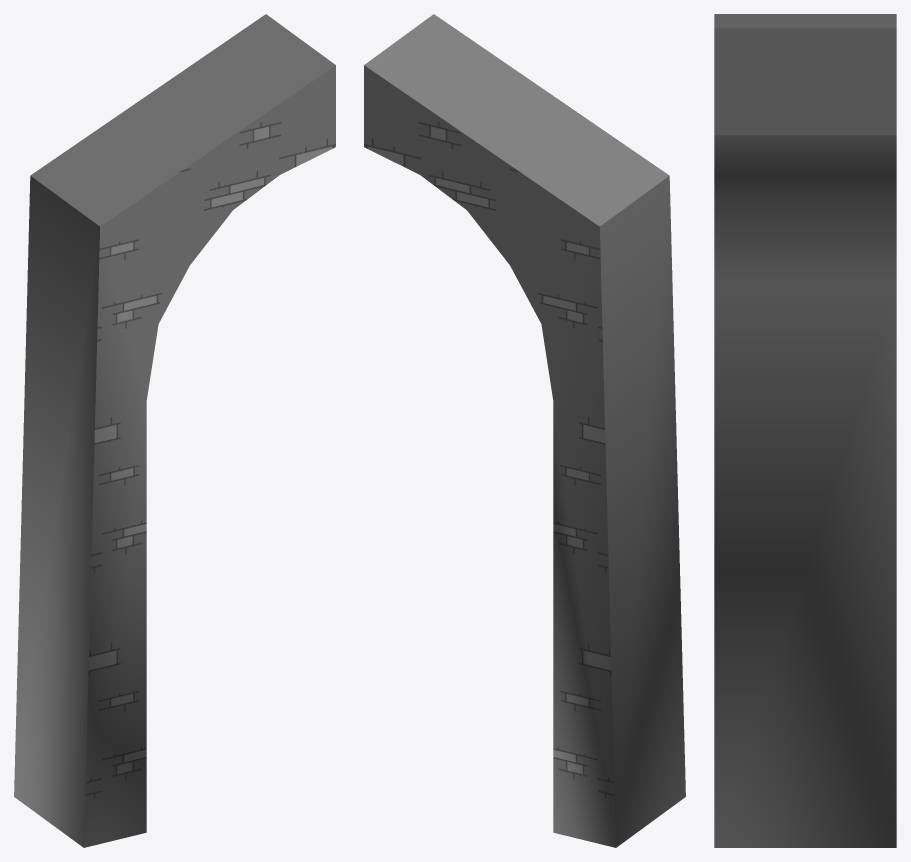
File: stand.gltf
3 renders of one model, left to right at view 1: azimuth 30°, elevation 25°; view 2: azimuth 150°, elevation 25°; view 3: azimuth 270°, elevation 25°, orthographic. The views are drawn at different scales.
Parts seen in each view (by area): view 1: stand; view 2: stand; view 3: stand.
Boxes of the visible parts, left/top/right/bottom form: stand: left=14, top=14, right=335, bottom=847; stand: left=364, top=14, right=685, bottom=847; stand: left=714, top=14, right=896, bottom=847.
Size of the model in its own units: 6.88 by 18.82 by 3.3.
3 materials, 1 textured.
